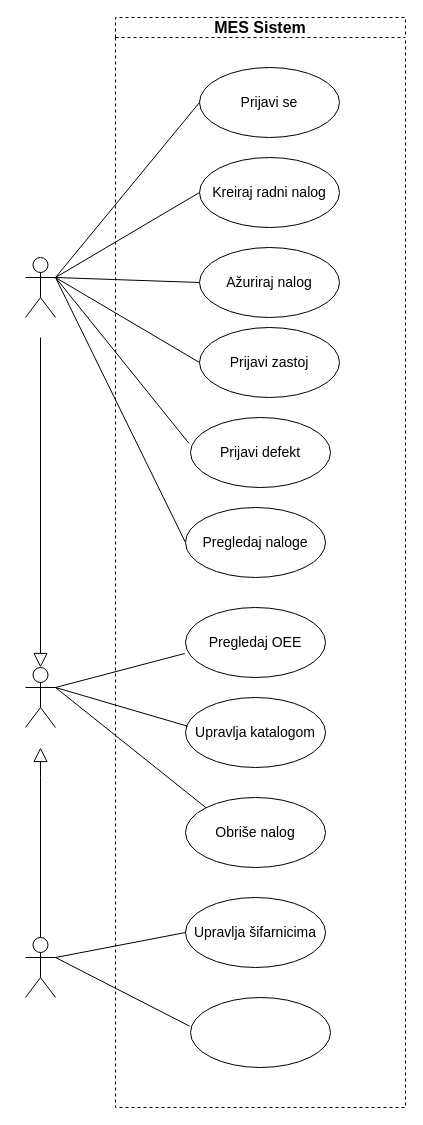
Some shapes in this 423 by 1125 pixel diagram are drawn without their labels. Here are the shapes that lost their labels. From the top down, the centre of each, then its label:
pixel 40 287: Operato r
pixel 40 697: Manager
pixel 40 967: Admin
pixel 260 1032: Upravlja korisnicima
